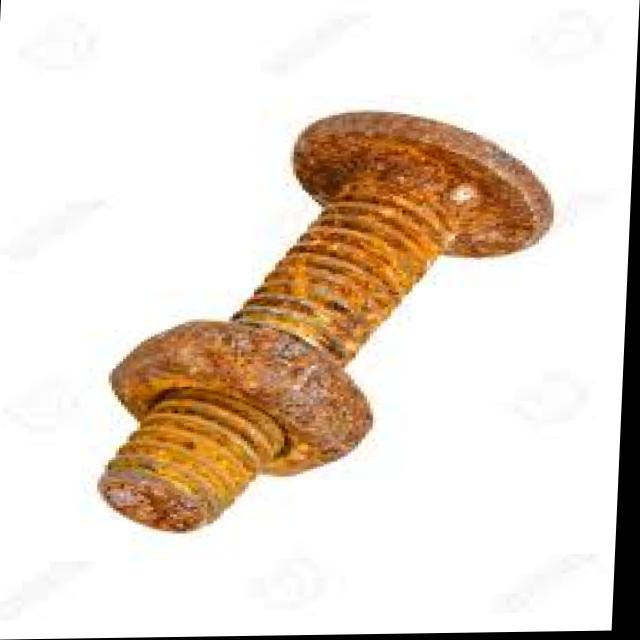Rusty bolt: (120, 317, 383, 481), (289, 109, 560, 260)
